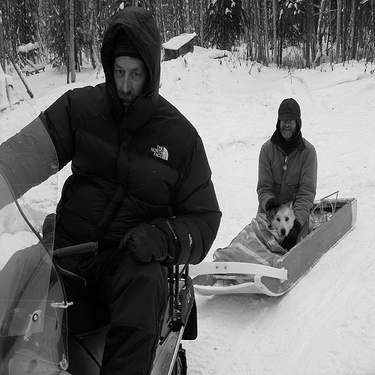dog: (237, 192, 299, 268)
